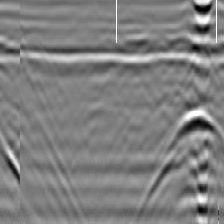Utility: (138, 105, 224, 220)
